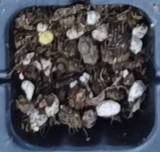pepper seed: (10, 6, 65, 52)
